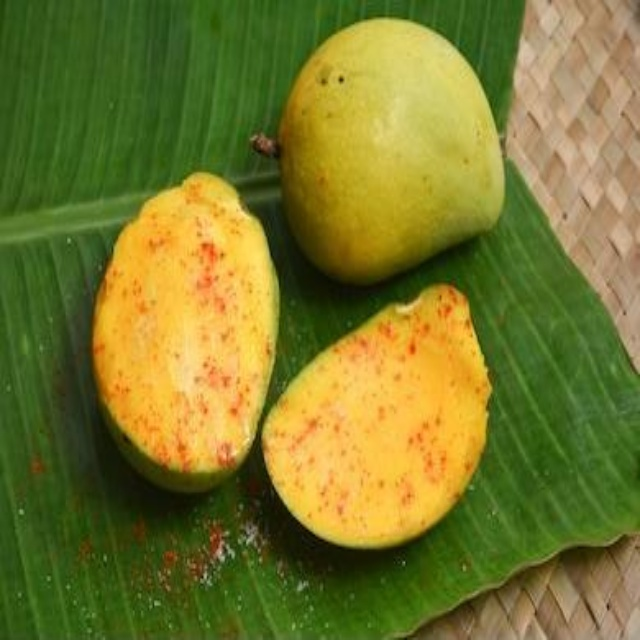mango: (257, 292, 486, 553), (274, 18, 505, 276), (101, 180, 277, 502)
